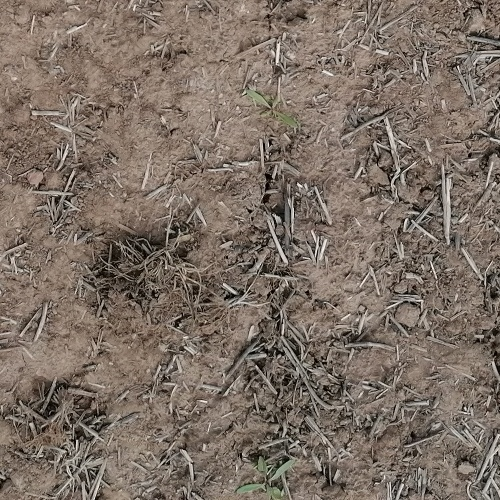beet: (237, 456, 296, 500), (246, 89, 298, 129)
